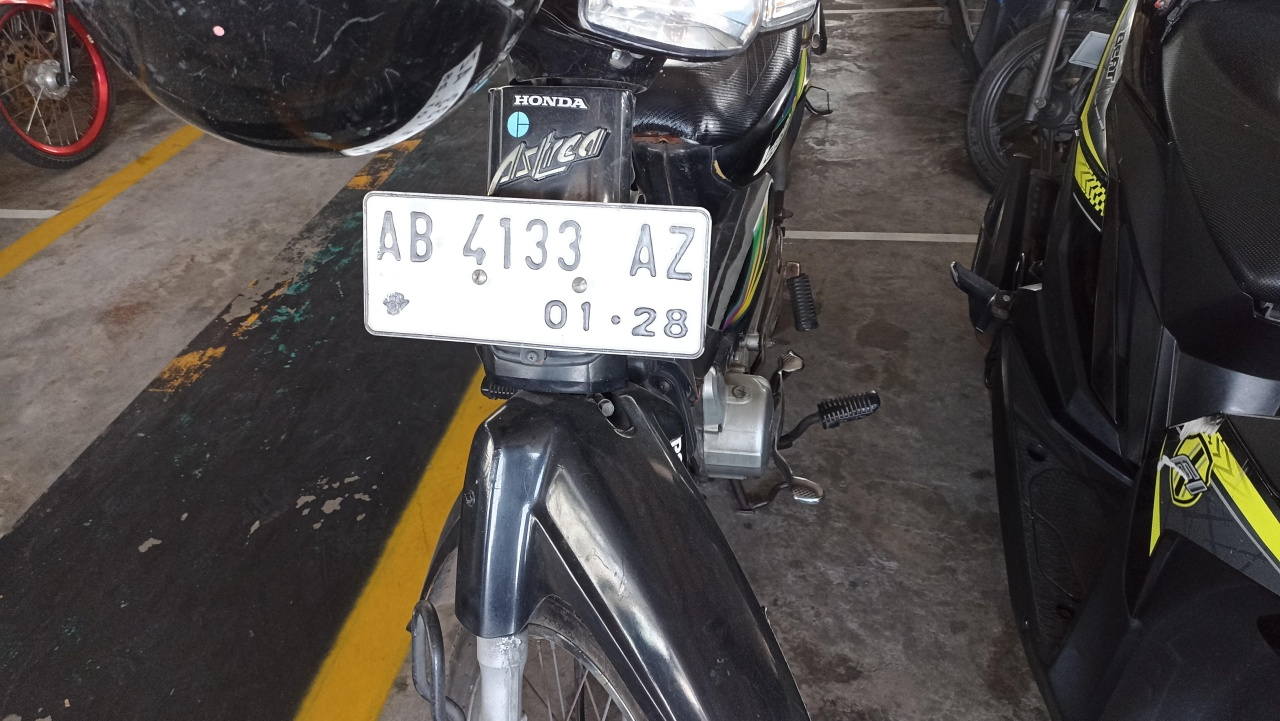plate: (363, 192, 710, 359)
